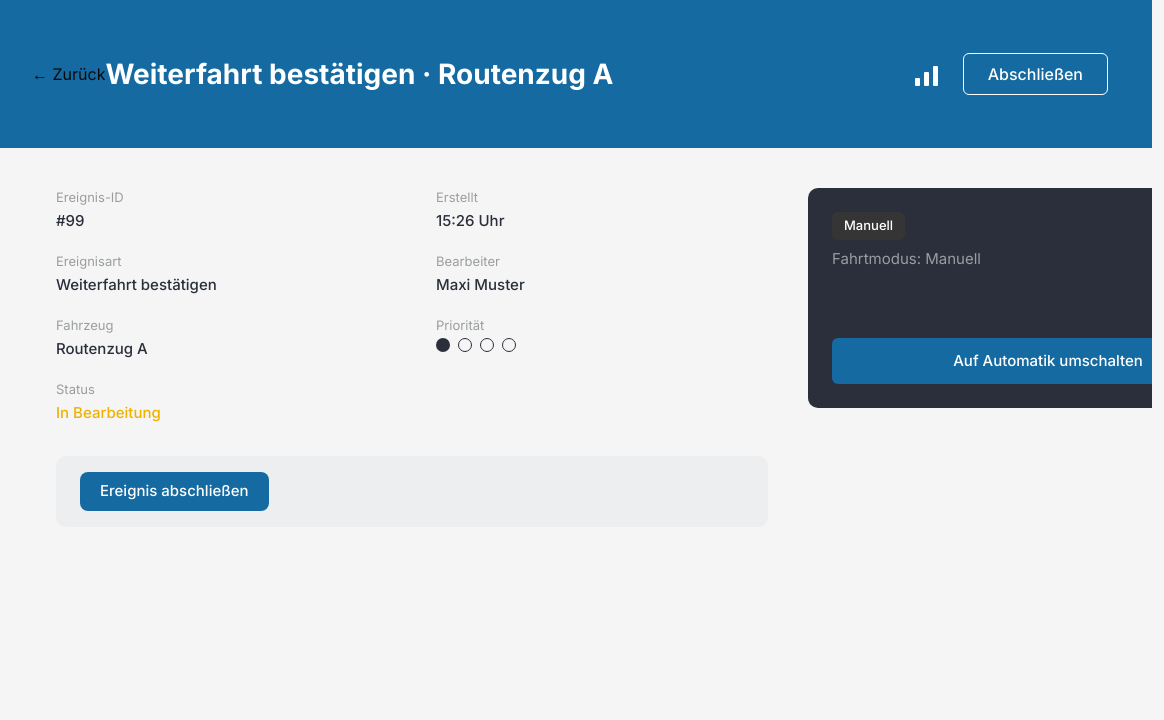
Test: ER-02 — EreignisDetailPage — Status-Workflow: Abschluss bestätigen › 'Abbrechen' kehrt zu 'in-bearbeitung' zurück (keine Navigation)
The image size is (1164, 720).
Click the button "Ereignis abschließen" at (174, 491), box left=80, top=472, right=268, bottom=510
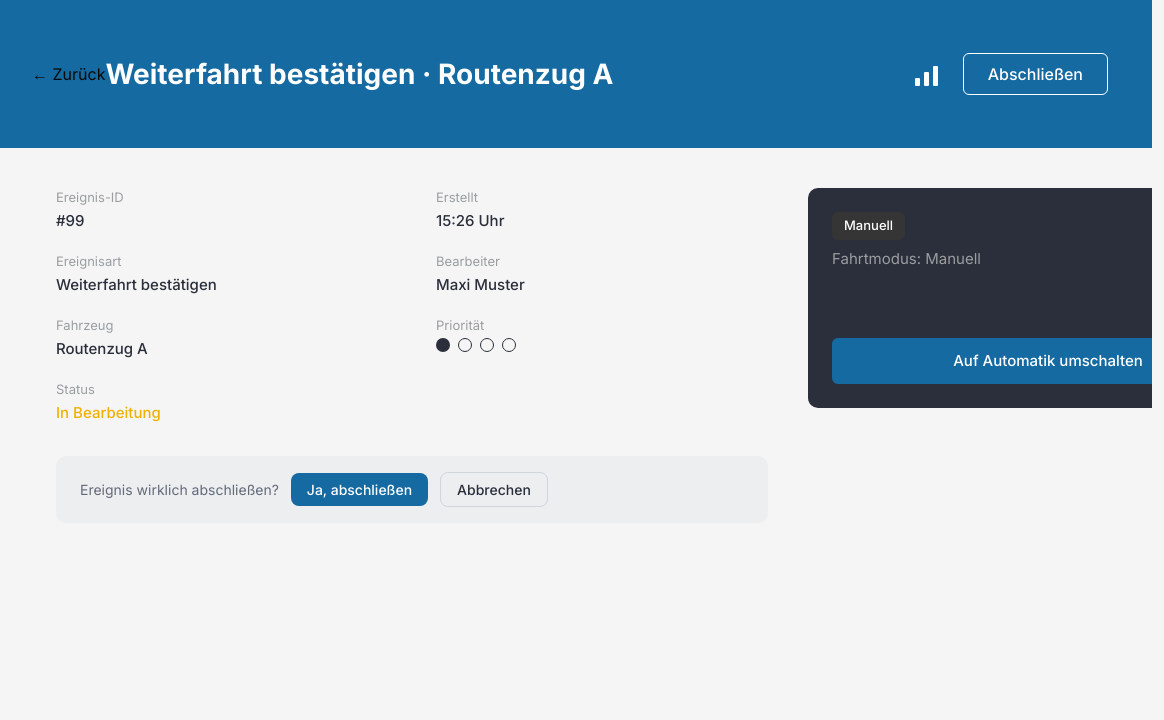
Click the button "Abbrechen" at (494, 490), box left=440, top=472, right=548, bottom=507
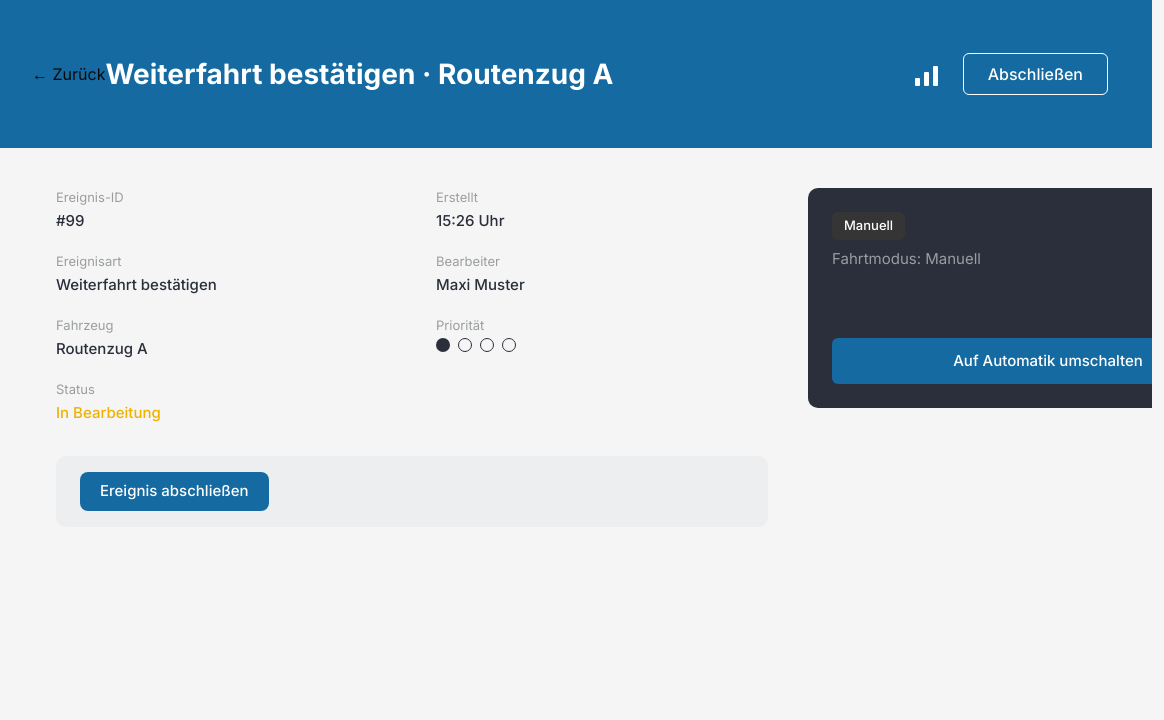
Expected: the text "Ereignis wirklich abschließen?" is gone
Expected: the button "Ereignis abschließen" is shown, left=80, top=472, right=268, bottom=510
